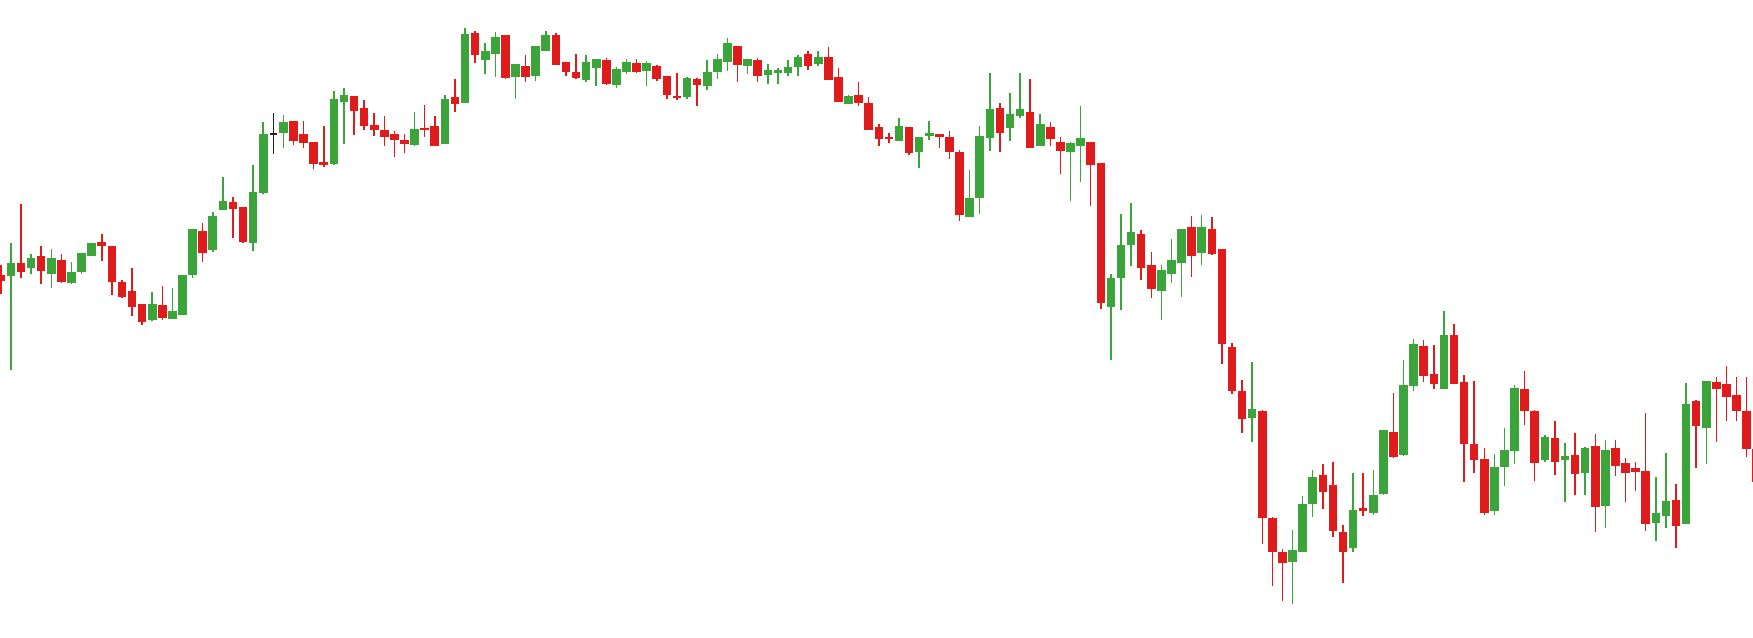buy: (1588, 461, 1662, 551)
sell: (923, 75, 1005, 180)
